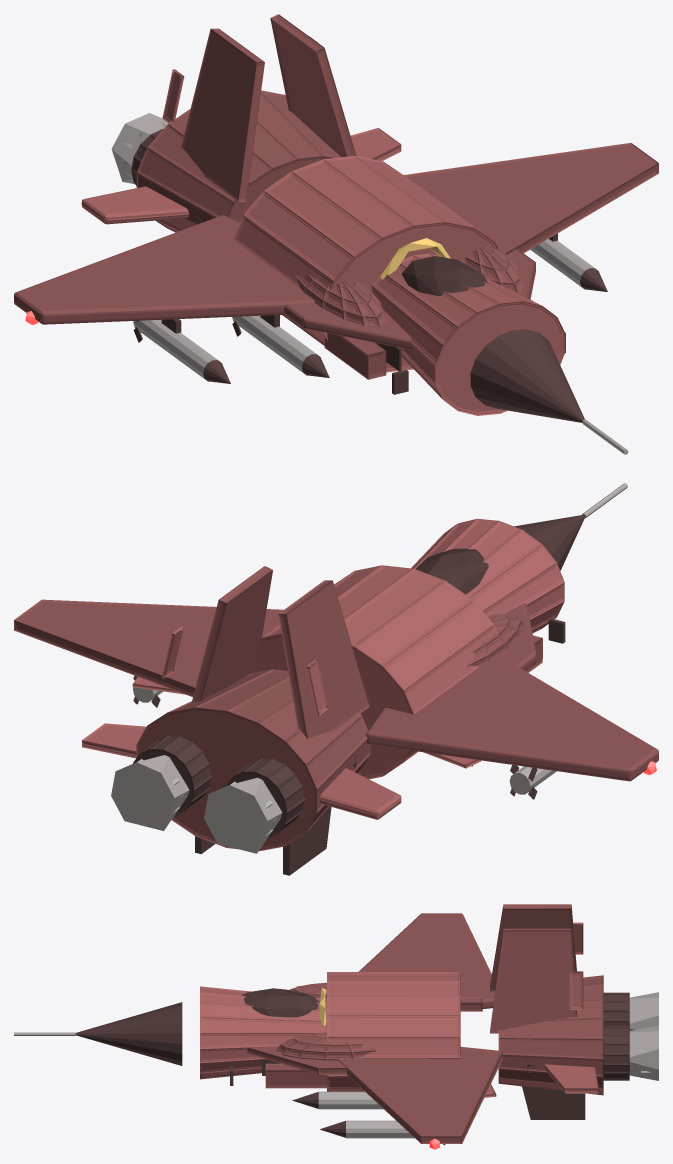
The model's file is enemy_jet.glb.
The picture shows the model from 3 angles, top to bottom: view 1: azimuth 30°, elevation 25°; view 2: azimuth 150°, elevation 25°; view 3: azimuth 270°, elevation 25°; orthographic projection. The views are drawn at different scales.
Visible parts, largest first — view 1: Airframe; view 2: Airframe; view 3: Airframe.
Boxes of the visible parts, <box> form: Airframe: <box>14,14,658,454</box>; Airframe: <box>14,483,658,875</box>; Airframe: <box>14,904,658,1145</box>.
Bounding box in the file's own units: 7.86 × 3 × 9.42.
